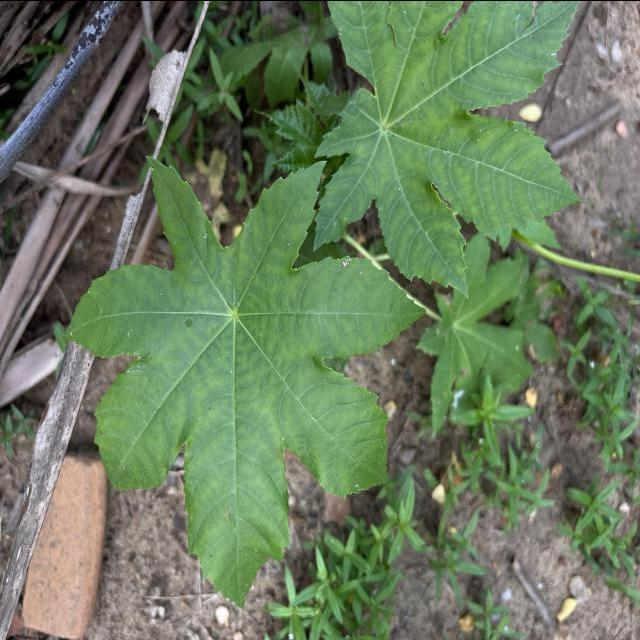Ricinus communis linn: (57, 148, 434, 612)
